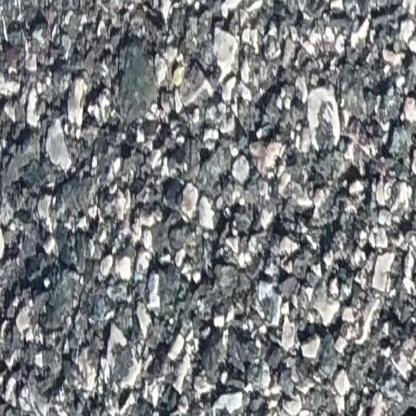Cracks: (382, 384, 416, 416)
